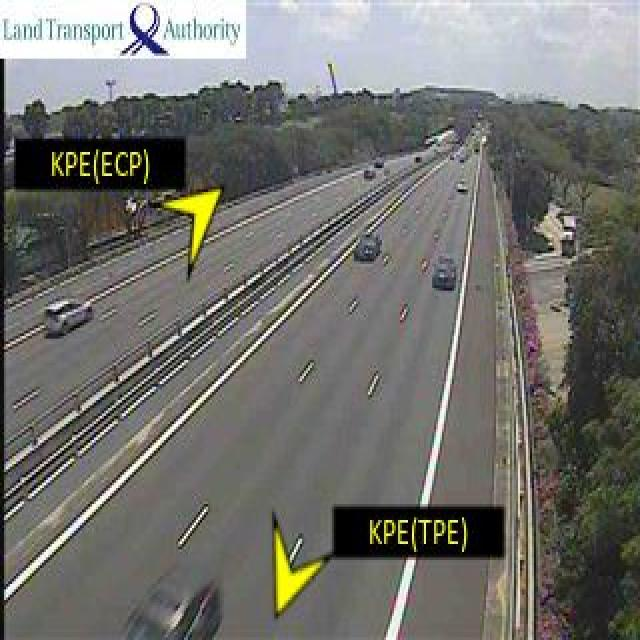vehicles: (130, 562, 220, 640), (44, 300, 99, 336), (355, 231, 387, 271), (432, 251, 461, 295)
